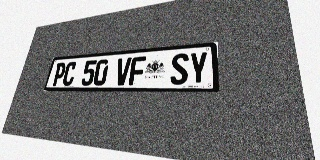0: (92, 59, 109, 86)
5: (80, 60, 97, 86)
C: (61, 61, 77, 86)
F: (128, 56, 146, 85)
P: (51, 62, 67, 86)
S: (170, 53, 189, 85)
V: (114, 57, 132, 85)
Y: (189, 51, 208, 85)
